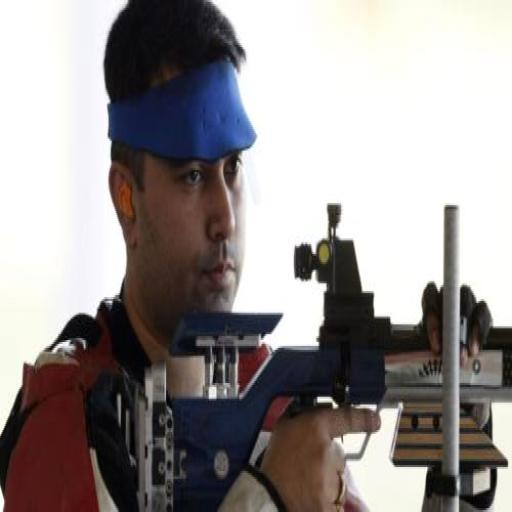shooting: (48, 42, 480, 498)
